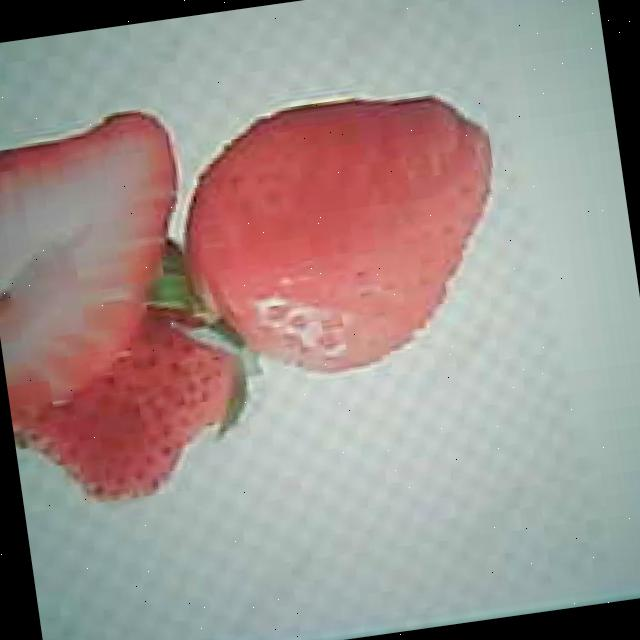strawberry: (168, 80, 524, 391)
